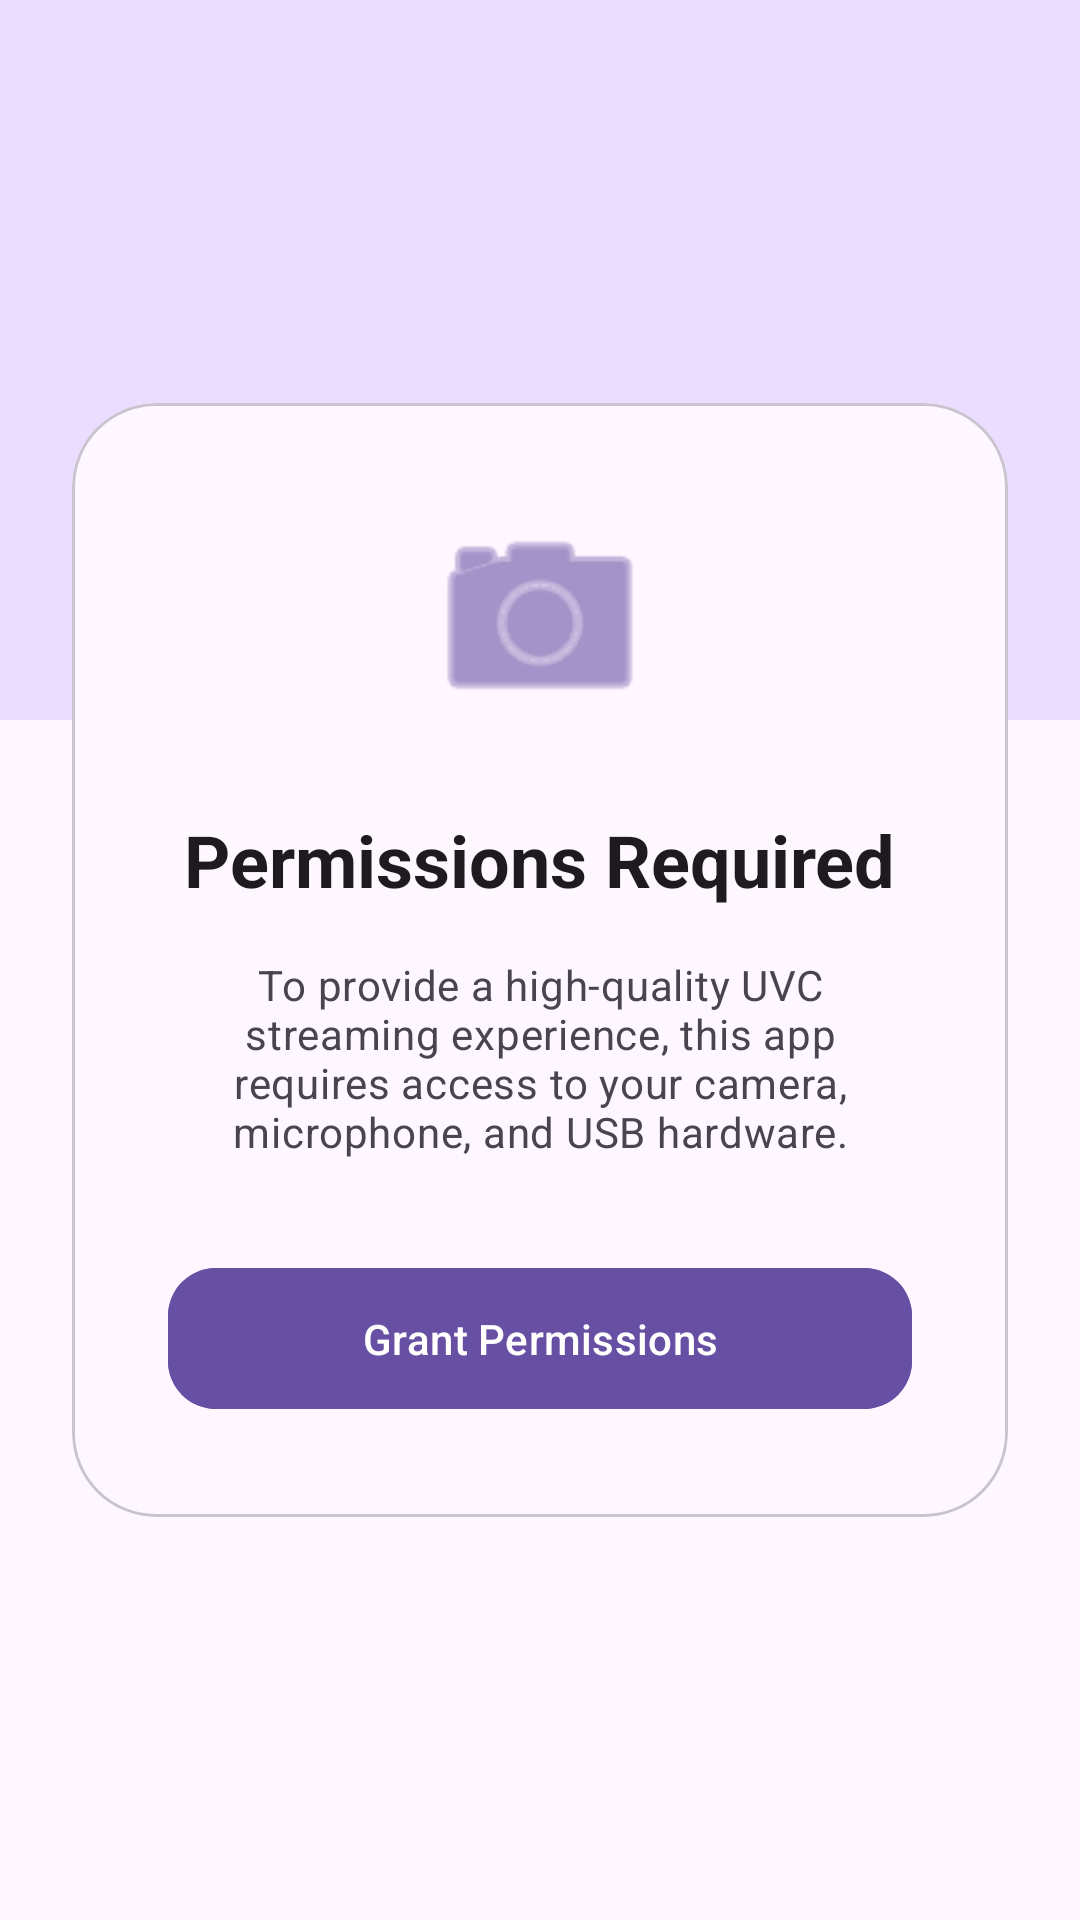

Icon bounding boxes for this 1080w x 1920h phone screenshot, format {"left": x1, "top": y1, "right": x2, "bottom": y2}:
camera: {"left": 448, "top": 542, "right": 632, "bottom": 689}
